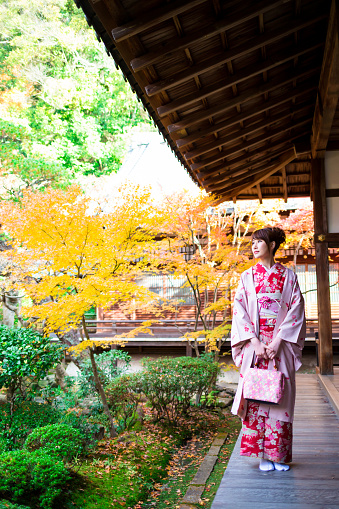em pe: (222, 220, 303, 504)
